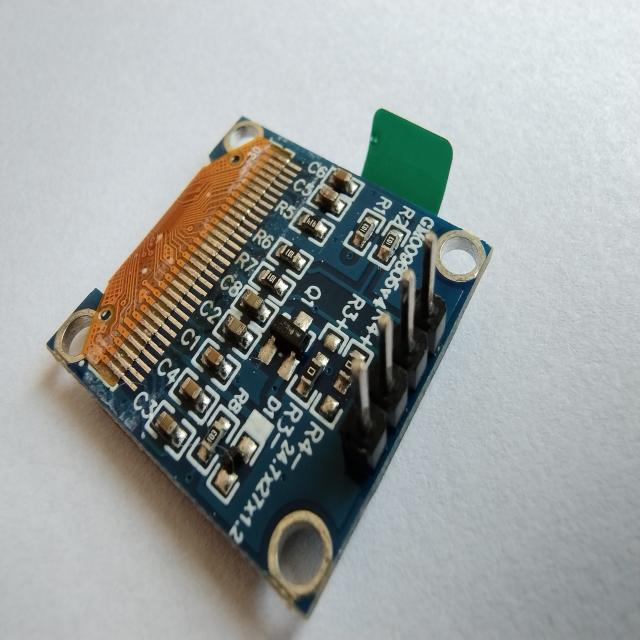oled: (48, 109, 509, 634)
